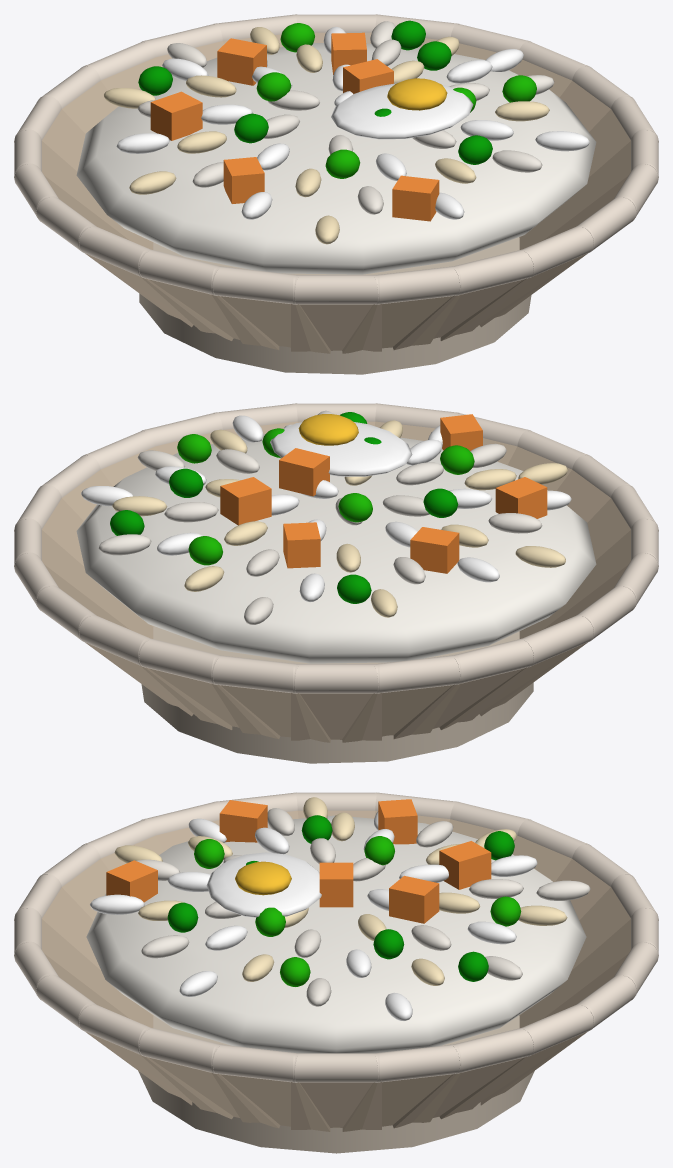
The model's file is CMU3DFoodRiceEggCloud.glb.
3 renders of one model, top to bottom at view 1: azimuth 30°, elevation 25°; view 2: azimuth 150°, elevation 25°; view 3: azimuth 270°, elevation 25°, orthographic.
Visible parts, largest first — view 1: fried rice mound, closed ceramic basin floor, fried egg white, flared hollow ceramic wall 17, flared hollow ceramic wall 16, flared hollow ceramic wall 18, flared hollow ceramic wall 23, rolled ceramic rim 17, rolled ceramic rim 18, rolled ceramic rim 16, flared hollow ceramic wall 19, flared hollow ceramic wall 15 (+78 smaller); view 2: fried rice mound, closed ceramic basin floor, fried egg white, flared hollow ceramic wall 09, flared hollow ceramic wall 08, flared hollow ceramic wall 10, flared hollow ceramic wall 03, rolled ceramic rim 09, rolled ceramic rim 08, rolled ceramic rim 10, flared hollow ceramic wall 07, flared hollow ceramic wall 11 (+76 smaller); view 3: fried rice mound, closed ceramic basin floor, fried egg white, flared hollow ceramic wall 01, flared hollow ceramic wall 02, flared hollow ceramic wall 24, flared hollow ceramic wall 07, flared hollow ceramic wall 19, rolled ceramic rim 01, rolled ceramic rim 02, rolled ceramic rim 24, flared hollow ceramic wall 03 (+79 smaller).
Boxes of the visible parts, x1,y1,x2,y2 form: fried rice mound: (76,43,596,274); closed ceramic basin floor: (139,237,531,374); fried egg white: (331,83,473,139); flared hollow ceramic wall 17: (291,304,381,351); flared hollow ceramic wall 16: (211,294,330,353); flared hollow ceramic wall 18: (342,294,461,353); flared hollow ceramic wall 23: (519,141,630,249); rolled ceramic rim 17: (293,275,379,304); rolled ceramic rim 18: (374,266,461,304); rolled ceramic rim 16: (211,266,298,304); flared hollow ceramic wall 19: (392,277,531,350); flared hollow ceramic wall 15: (141,277,279,350); fried rice mound: (76,434,596,663); closed ceramic basin floor: (141,626,533,763); fried egg white: (270,422,412,476); flared hollow ceramic wall 09: (291,693,381,740); flared hollow ceramic wall 08: (211,683,330,742); flared hollow ceramic wall 10: (342,683,461,742); flared hollow ceramic wall 03: (42,530,153,638); rolled ceramic rim 09: (293,664,379,693); rolled ceramic rim 08: (211,655,298,693); rolled ceramic rim 10: (374,655,461,693); flared hollow ceramic wall 07: (141,666,280,739); flared hollow ceramic wall 11: (393,666,531,739); fried rice mound: (86,815,586,1053); closed ceramic basin floor: (138,1015,534,1153); fried egg white: (206,852,321,917); flared hollow ceramic wall 01: (291,1082,381,1129); flared hollow ceramic wall 02: (342,1072,461,1131); flared hollow ceramic wall 24: (211,1072,330,1131); flared hollow ceramic wall 07: (519,919,630,1027); flared hollow ceramic wall 19: (42,919,153,1027); rolled ceramic rim 01: (293,1053,379,1082); rolled ceramic rim 02: (375,1044,461,1082); rolled ceramic rim 24: (211,1044,297,1082); flared hollow ceramic wall 03: (392,1055,531,1128).
Size of the model in its own units: 0.7324 by 0.298 by 0.7324.
